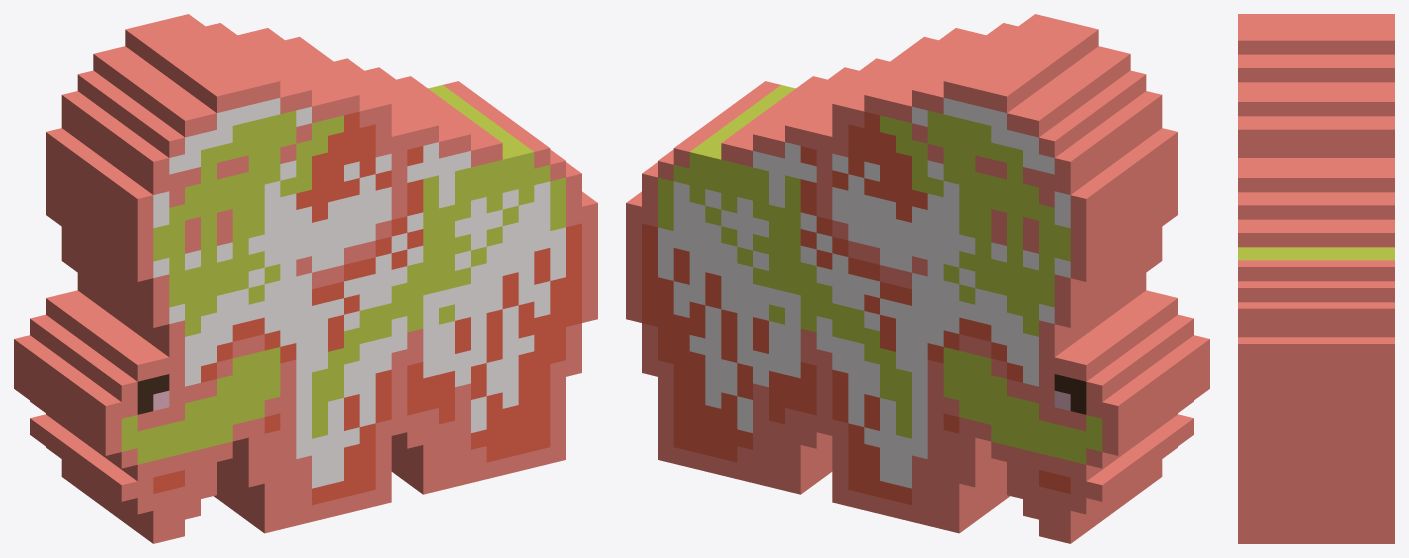
3 renders of one model, left to right at view 1: azimuth 30°, elevation 25°; view 2: azimuth 150°, elevation 25°; view 3: azimuth 270°, elevation 25°, orthographic. The views are drawn at different scales.
Bounding box in the file's own units: 31 × 27 × 10.
